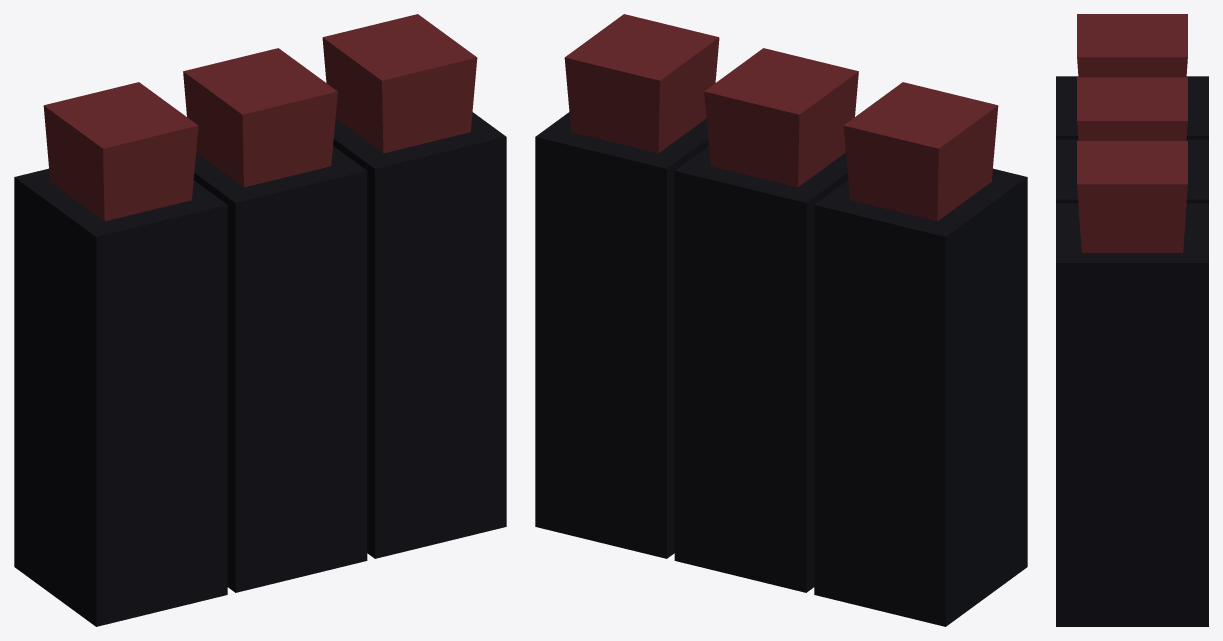
The model's file is Drill_Batery.fbx.
3 views of the same model, side by side, from view 1: azimuth 30°, elevation 25°; view 2: azimuth 150°, elevation 25°; view 3: azimuth 270°, elevation 25° (orthographic). The views are drawn at different scales.
Parts seen in each view (by area): view 1: Cube; view 2: Cube; view 3: Cube.
Part boxes in pixels (bbox=[...]): Cube: bbox=[14, 14, 506, 626]; Cube: bbox=[535, 14, 1027, 626]; Cube: bbox=[1056, 14, 1208, 626].
Size of the model in its own units: 65.8 by 71.32 by 22.75.
